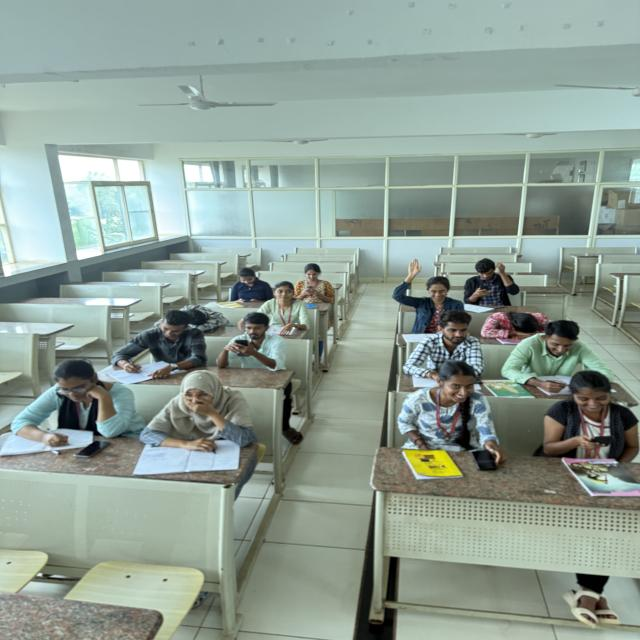Writing: (15, 352, 140, 452), (106, 309, 210, 380)
